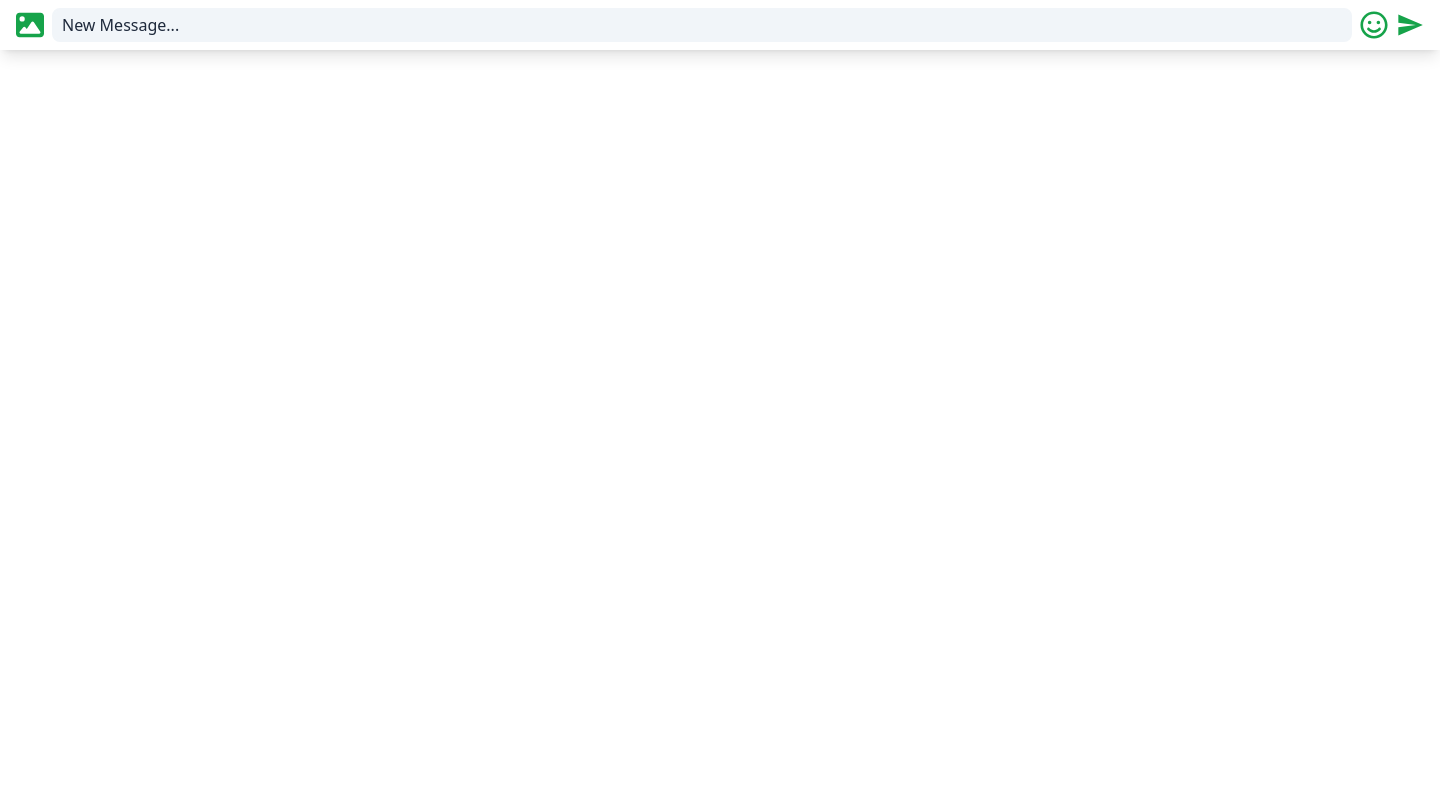
Scenario: <NewMessageInput /> › displays error when message sending fails
Step 1. Type "Hello, this is a test message!" into the field with test id "new-message-input" → x=702, y=25, box [62, 13, 1342, 37]
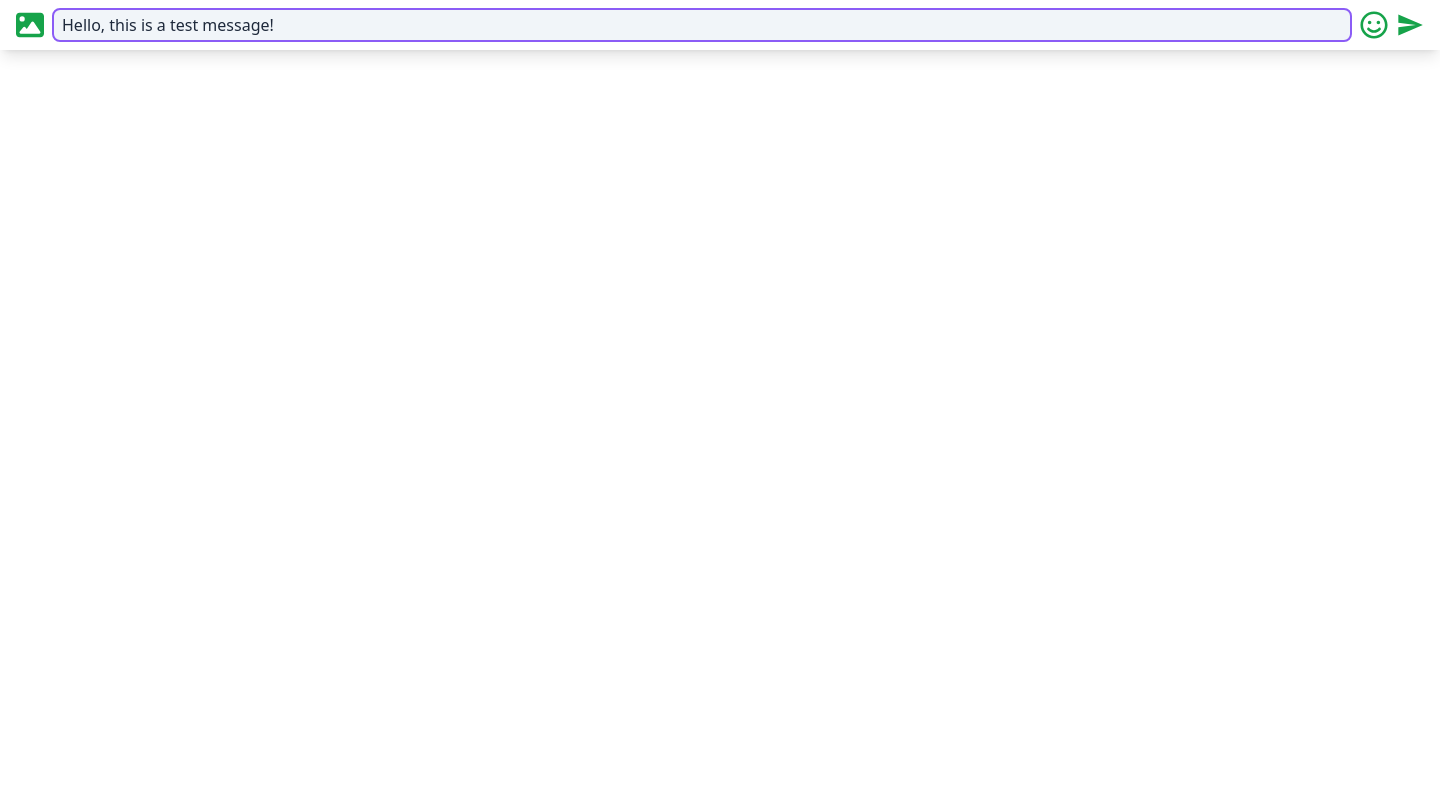
Step 2. Click the button with test id "send-new-message-button" → x=1410, y=25, box [1396, 8, 1424, 42]
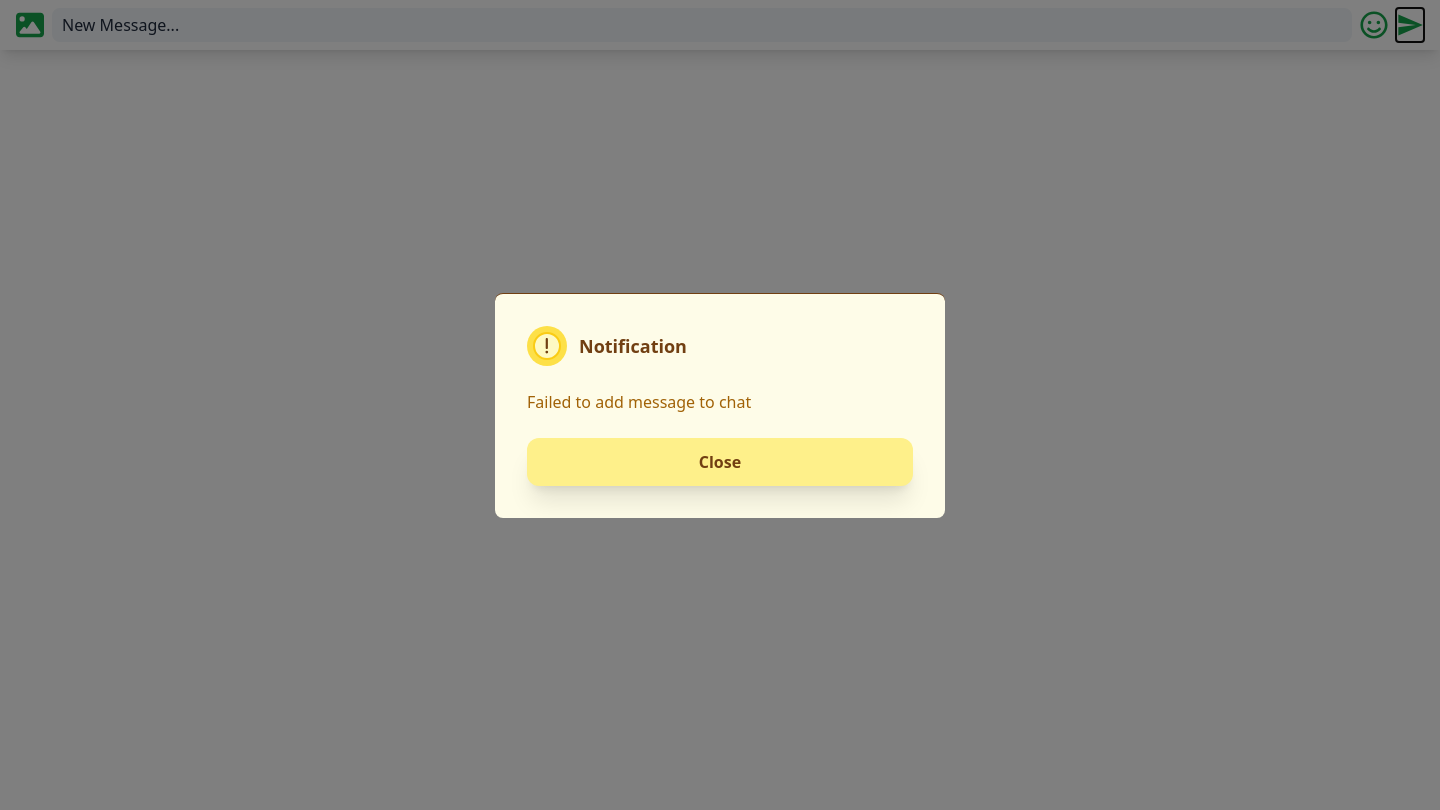
Result: the element with test id "alert-modal" is shown at [495, 292, 945, 518]
Result: the text "Failed to add message to chat" is shown at [527, 390, 751, 412]
